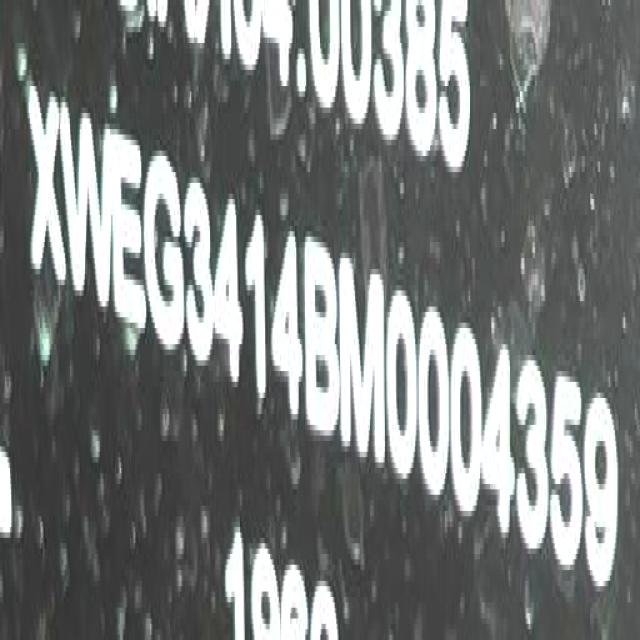0: (450, 316, 483, 518), (388, 285, 420, 485), (418, 306, 449, 504)
1: (246, 216, 271, 406)
3: (516, 354, 550, 556), (185, 186, 214, 371)
4: (480, 331, 513, 536), (272, 227, 303, 422), (212, 200, 242, 387)
5: (552, 368, 586, 581)
9: (584, 391, 622, 596)
B: (303, 235, 342, 440)
E: (112, 131, 146, 337)
G: (144, 154, 183, 358)
M: (341, 261, 385, 467)
W: (62, 100, 113, 312)
X: (29, 93, 65, 294)
